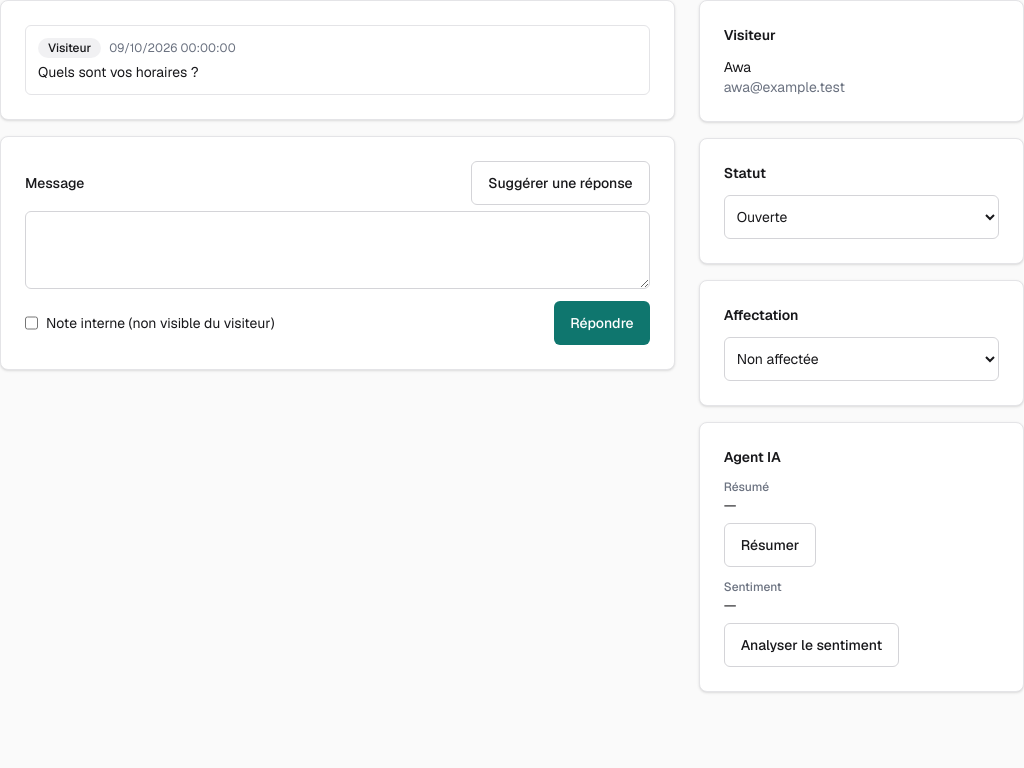
ConversationDetailPage › affiche le fil et permet de repondre quand l'appelant gere les conversations
The width and height of the screenshot is (1024, 768).
Expected: the text "Quels sont vos horaires ?" is shown, [38, 63, 198, 81]
Type "Nous sommes ouverts de 9h à 18h." into the text box labelled "Message" at (337, 250), box [25, 211, 650, 289]
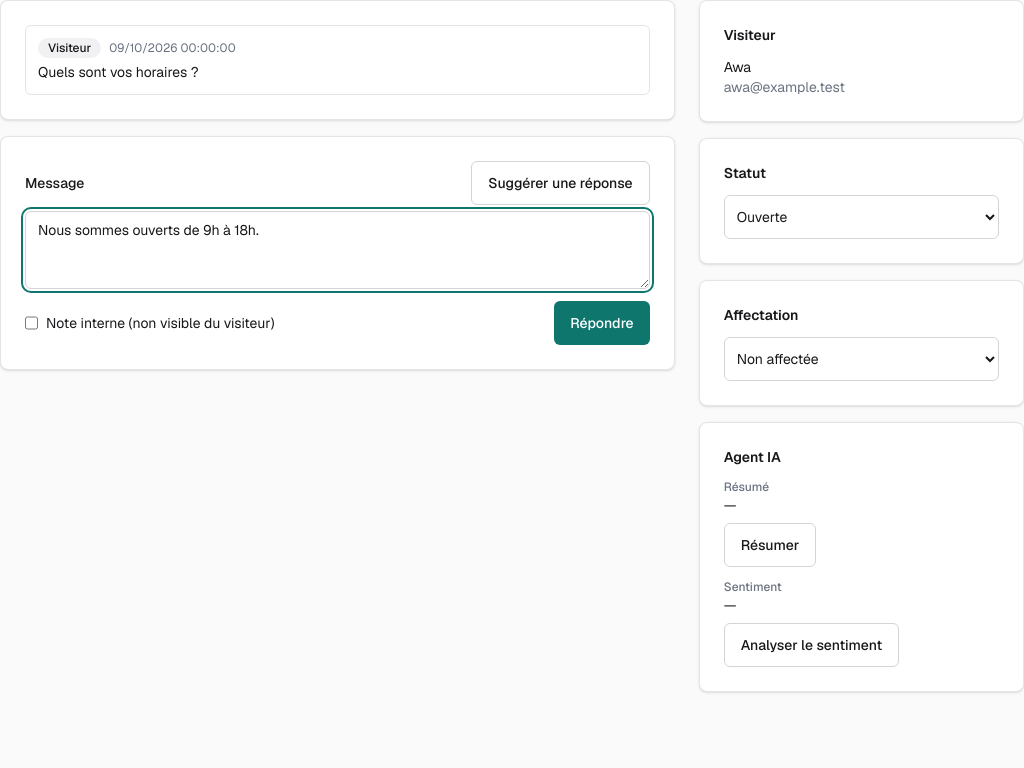
Click the button "Répondre" at (602, 323), box [554, 301, 650, 345]
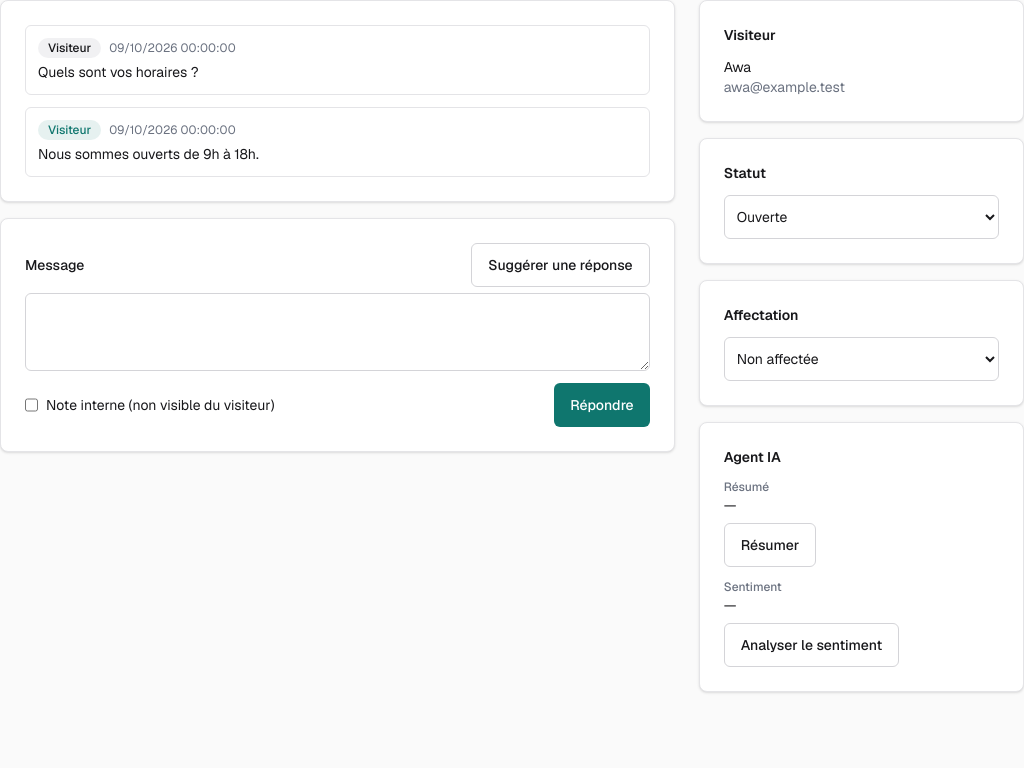
Now the text "Nous sommes ouverts de 9h à 18h." is shown, box [38, 145, 259, 163]
